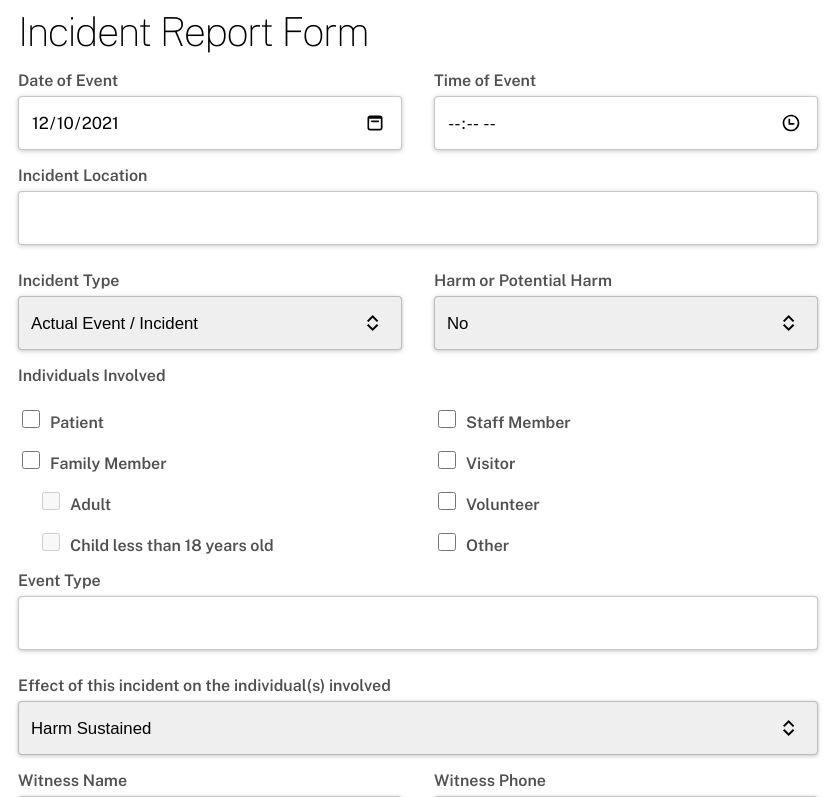
SirForm › disables Adult and Child inputs until Family Member is checked
Expected: the checkbox labelled "Adult" is disabled, left=42, top=492, right=60, bottom=510
Expected: the checkbox labelled "Child less than 18 years old" is disabled, left=42, top=533, right=60, bottom=551
Click the checkbox titled "familyMember" at [31, 460], box left=22, top=451, right=40, bottom=469
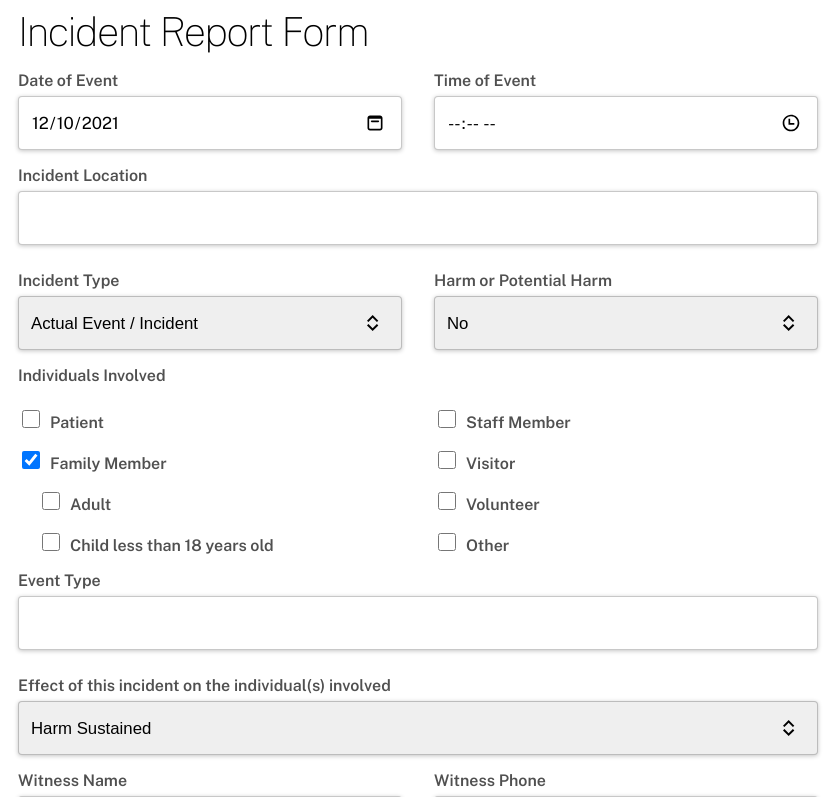
Expected: the checkbox labelled "Adult" is enabled, left=42, top=492, right=60, bottom=510
Expected: the checkbox labelled "Child less than 18 years old" is enabled, left=42, top=533, right=60, bottom=551
